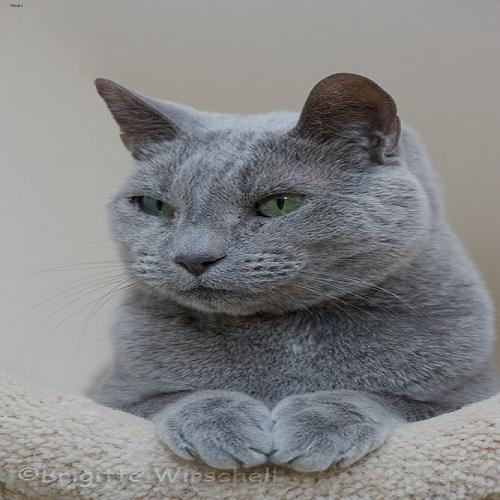rblue: (75, 67, 443, 330)
